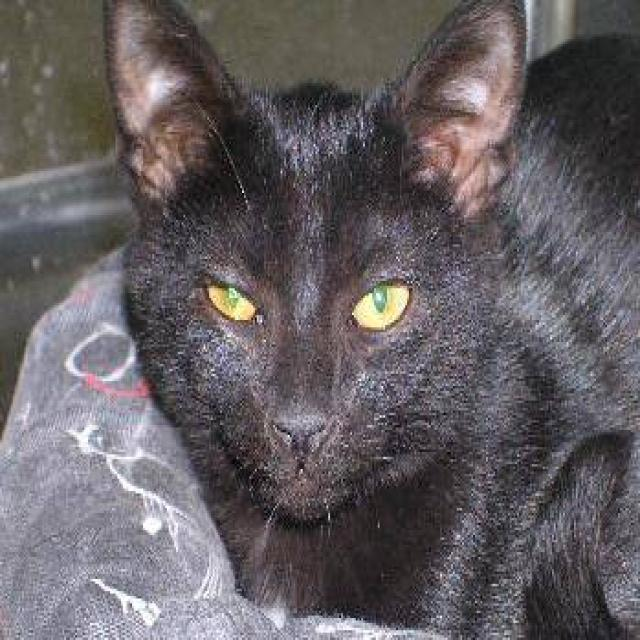cat: (101, 0, 638, 638)
